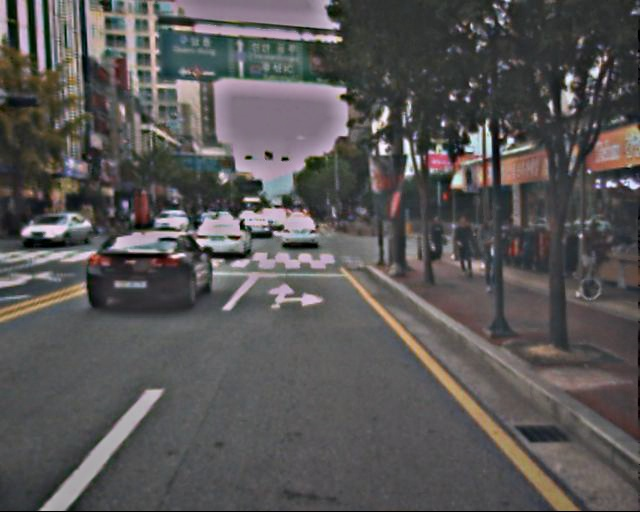person: (476, 216, 508, 293), (453, 216, 478, 276), (428, 215, 449, 263)
